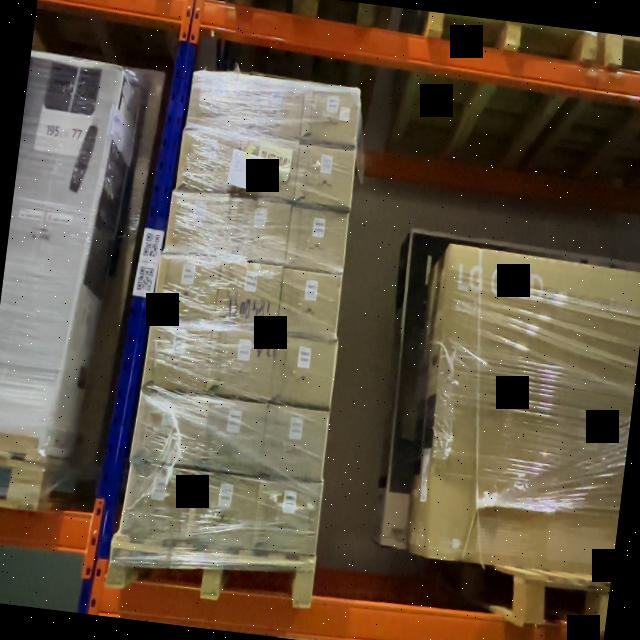box: (121, 464, 192, 544), (131, 392, 205, 467), (189, 475, 257, 554), (261, 405, 330, 482), (144, 320, 210, 392), (206, 329, 274, 398), (254, 483, 322, 552), (277, 270, 342, 340), (201, 402, 265, 472), (269, 339, 335, 404), (218, 264, 282, 330), (227, 198, 290, 264), (286, 208, 348, 271), (156, 258, 220, 318), (242, 80, 304, 140), (164, 195, 230, 250), (186, 72, 245, 132), (178, 134, 239, 192), (302, 85, 359, 147), (235, 140, 298, 195), (296, 147, 355, 203)
